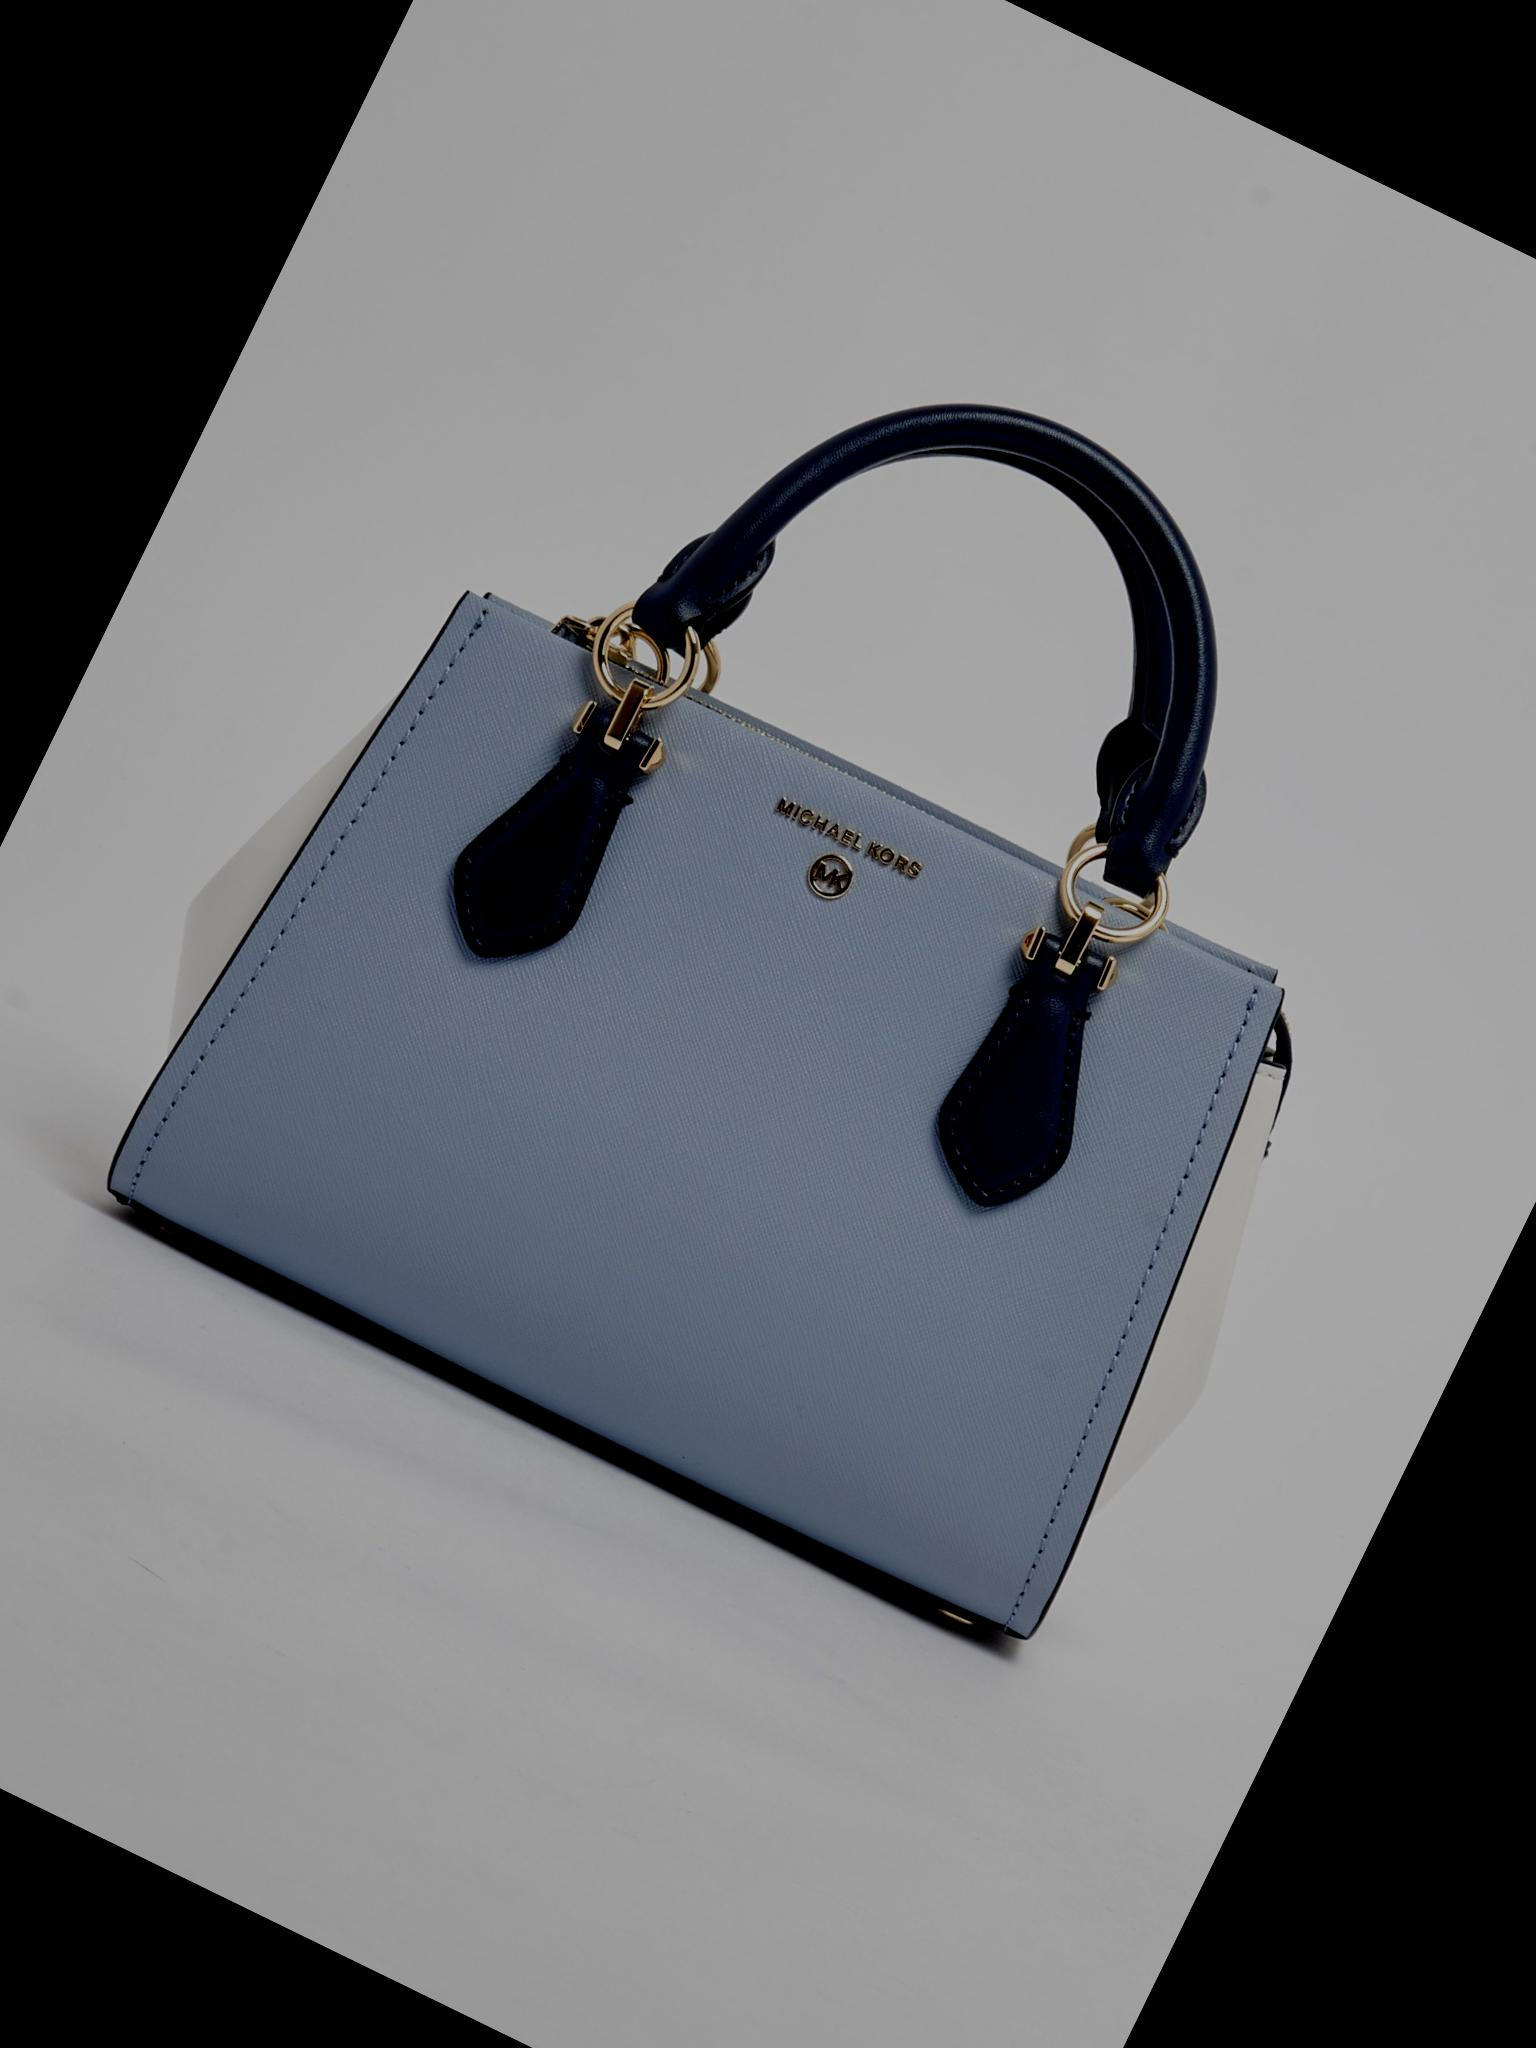MICHAEL-KORS: (774, 795, 923, 880)
